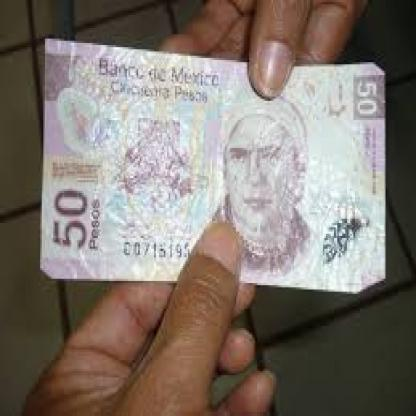billete: (38, 34, 386, 292)
